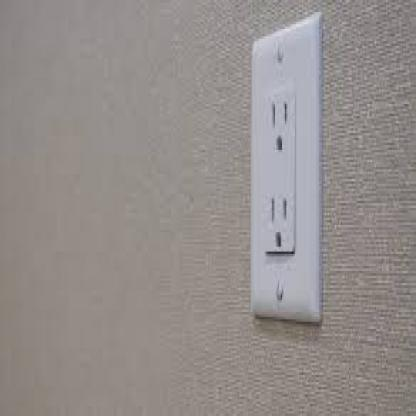OUTLET: (251, 14, 322, 324)
